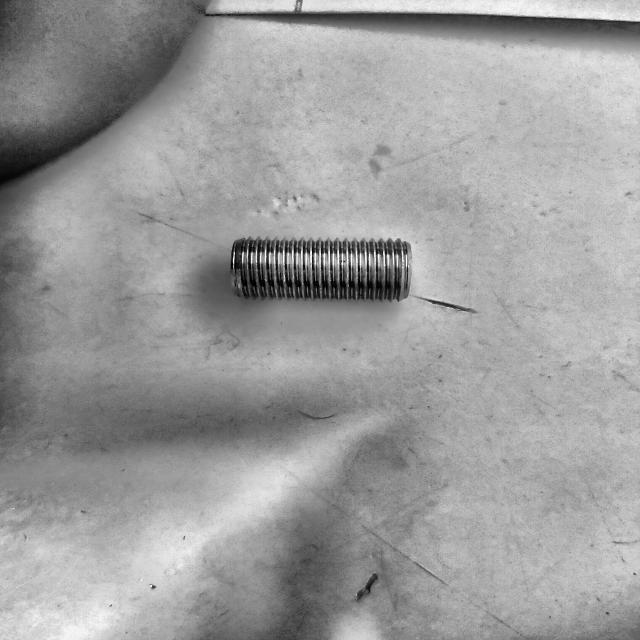Normal: (227, 235, 413, 304)
